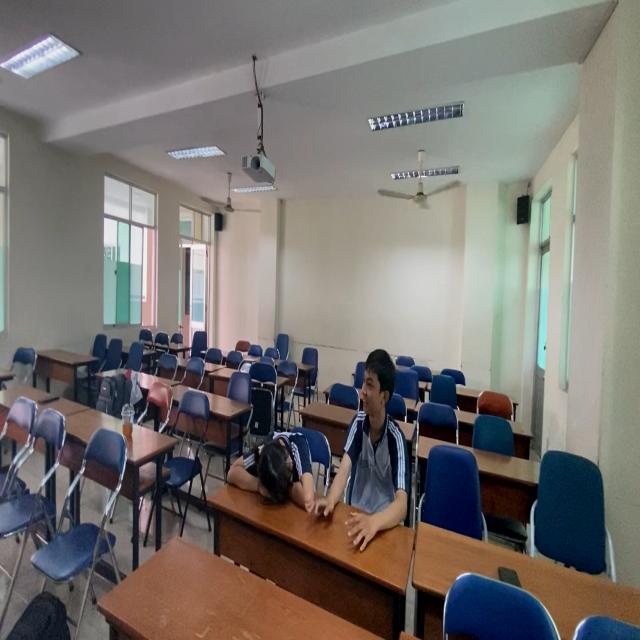sleep: (222, 413, 322, 534)
